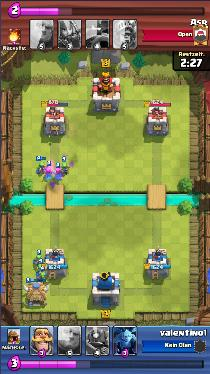ally_goblin_hut: (23, 282, 49, 307)
ally_spear_goblin: (60, 161, 71, 174), (35, 162, 45, 173), (38, 272, 47, 283), (35, 265, 45, 274), (34, 255, 42, 266)
enemy_archer: (43, 167, 53, 180), (54, 168, 63, 181)
